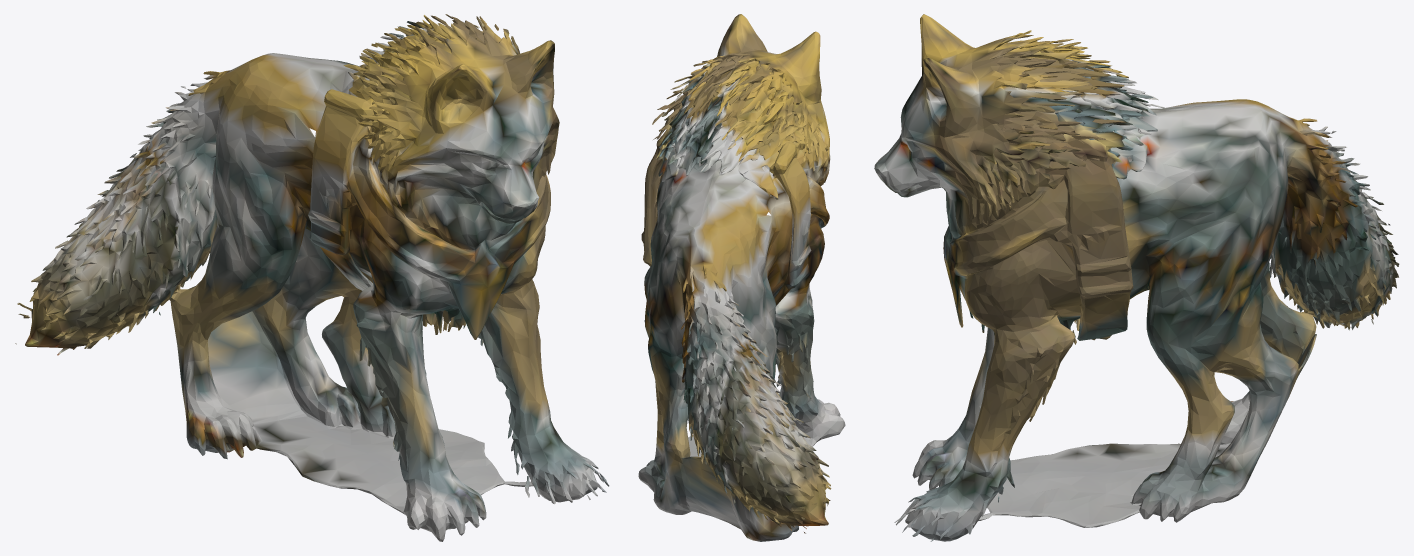
The model's file is wolfSummon.glb.
3 views of the same model, side by side, from view 1: azimuth 30°, elevation 25°; view 2: azimuth 150°, elevation 25°; view 3: azimuth 270°, elevation 25° (orthographic). The views are drawn at different scales.
Parts seen in each view (by area): view 1: world; view 2: world; view 3: world.
Part boxes in pixels (<box>): world: <box>15,14,609,541</box>; world: <box>638,14,845,541</box>; world: <box>874,14,1399,541</box>.
Size of the model in its own units: 0.8334 by 1 by 1.01.
